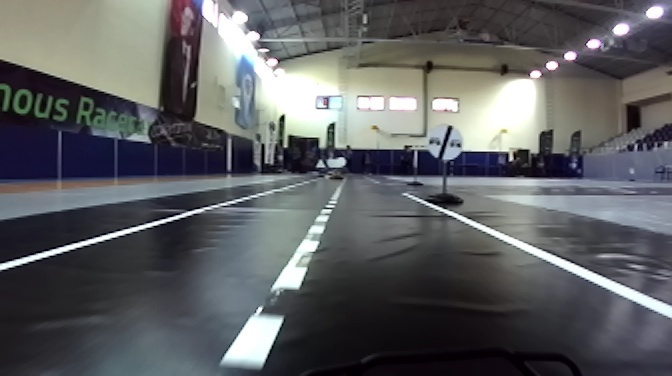sollama_serbest: (425, 124, 464, 161)
